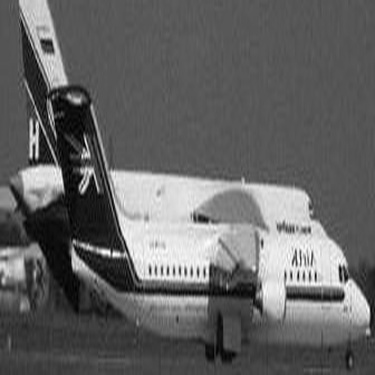airplane: (11, 2, 371, 369), (9, 1, 335, 254)
